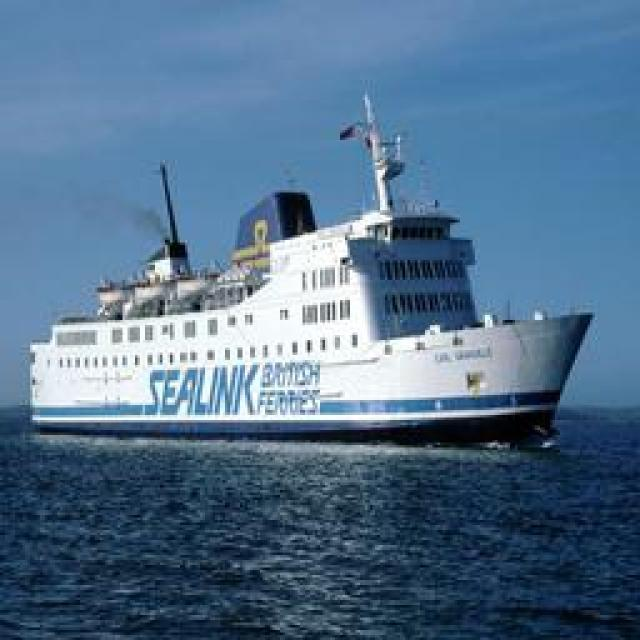CIV_Ship: (30, 72, 588, 440)
